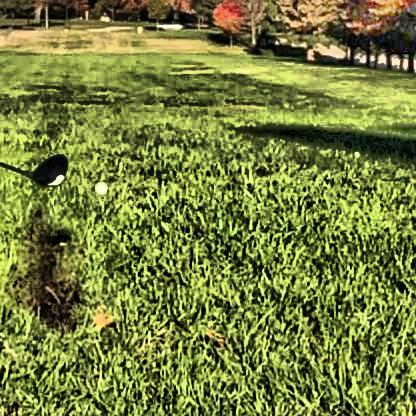golfball: (92, 177, 106, 192)
